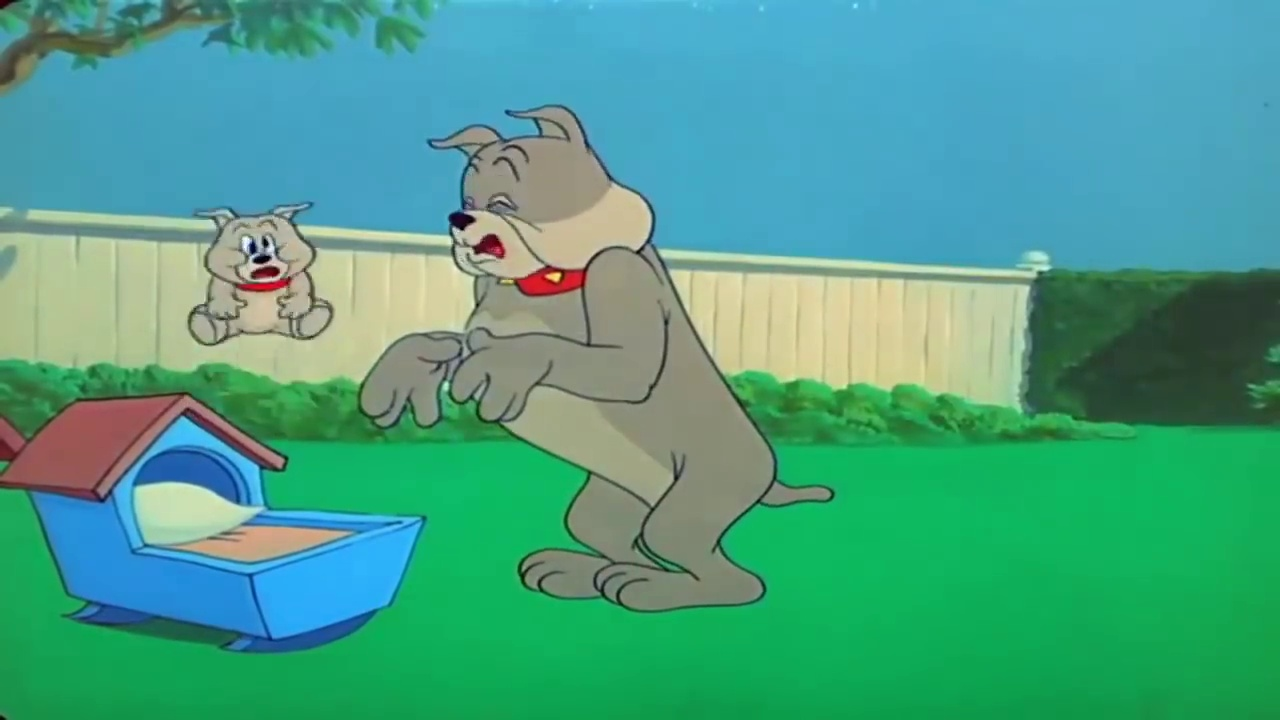spike: (422, 104, 661, 306)
